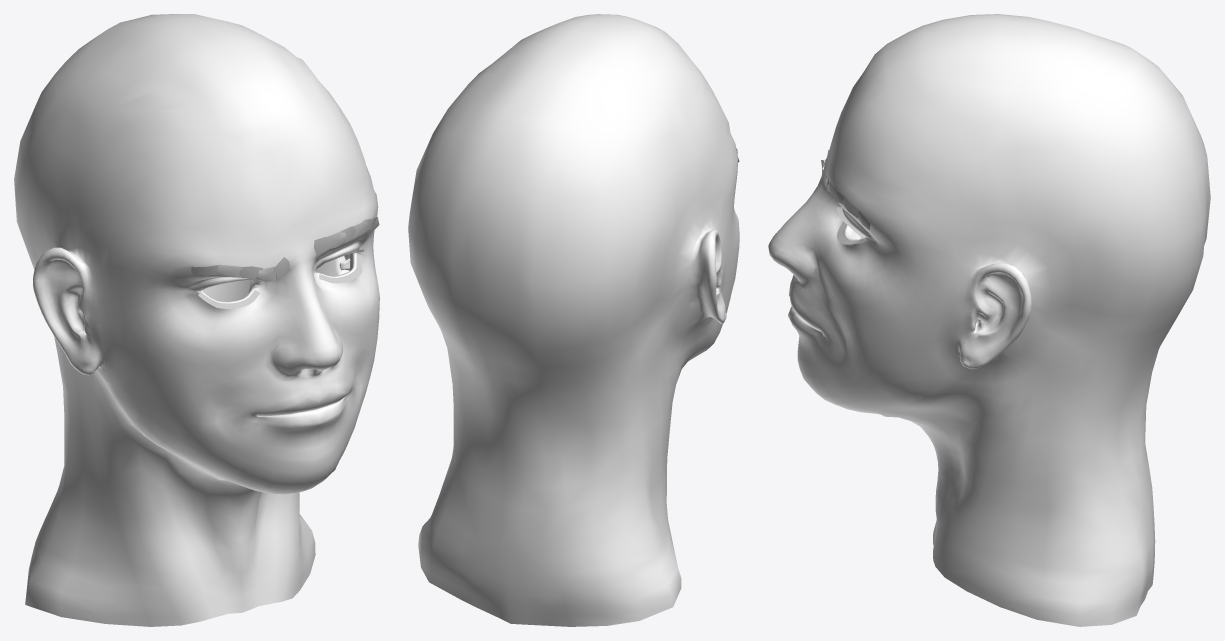
File: browDownRight.obj
3 renders of one model, left to right at view 1: azimuth 30°, elevation 25°; view 2: azimuth 150°, elevation 25°; view 3: azimuth 270°, elevation 25°, orthographic. The views are drawn at different scales.
Parts seen in each view (by area): view 1: FaceMesh_Plane.003; view 2: FaceMesh_Plane.003; view 3: FaceMesh_Plane.003.
Boxes of the visible parts, left/top/right/bottom form: FaceMesh_Plane.003: left=14, top=14, right=379, bottom=626; FaceMesh_Plane.003: left=408, top=14, right=739, bottom=626; FaceMesh_Plane.003: left=768, top=14, right=1210, bottom=626.
Size of the model in its own units: 1.54 by 2.71 by 1.94.
5 materials, 1 textured.
